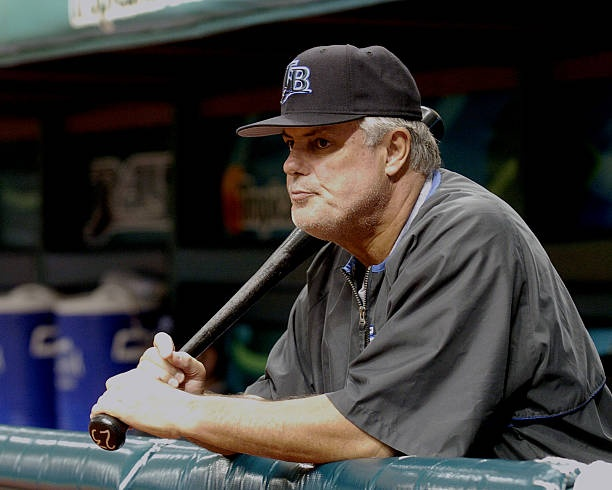bita: (94, 230, 309, 451)
